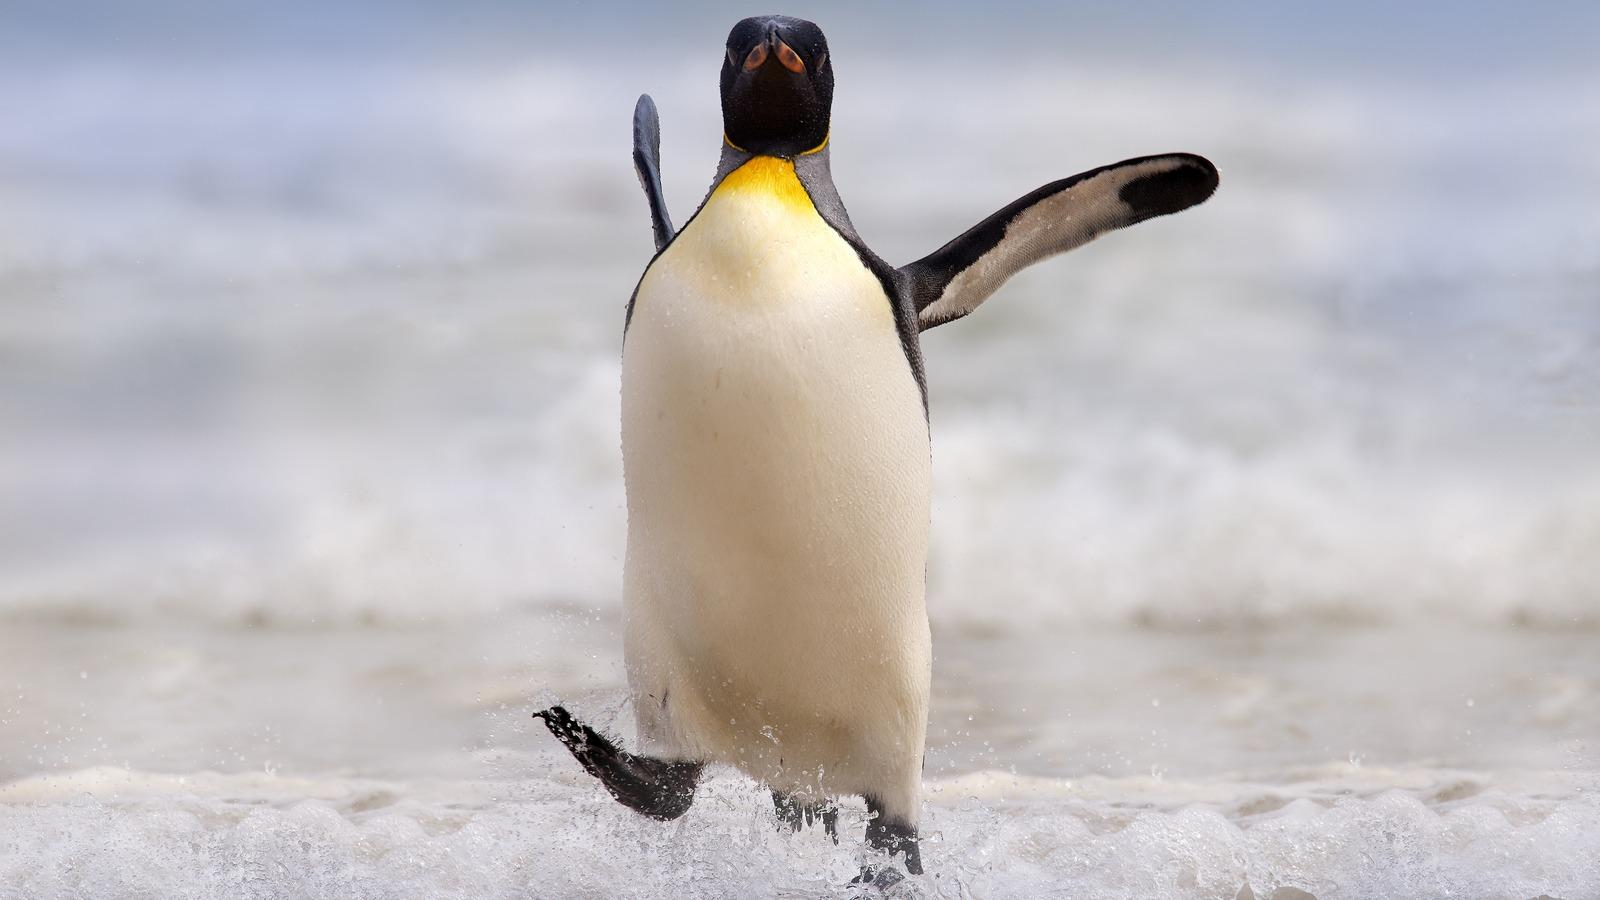king: (580, 8, 1053, 900)
